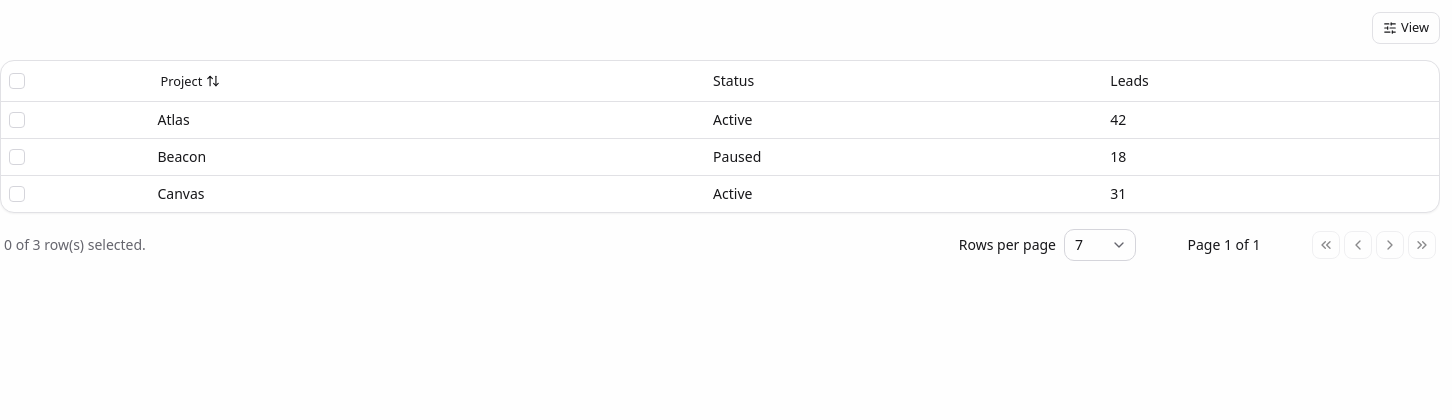
Test: DataTable › keeps a custom current page size available in the selector
Click the dropdown named "Rows per page". click: (1100, 244)
box: [1064,228,1136,260]
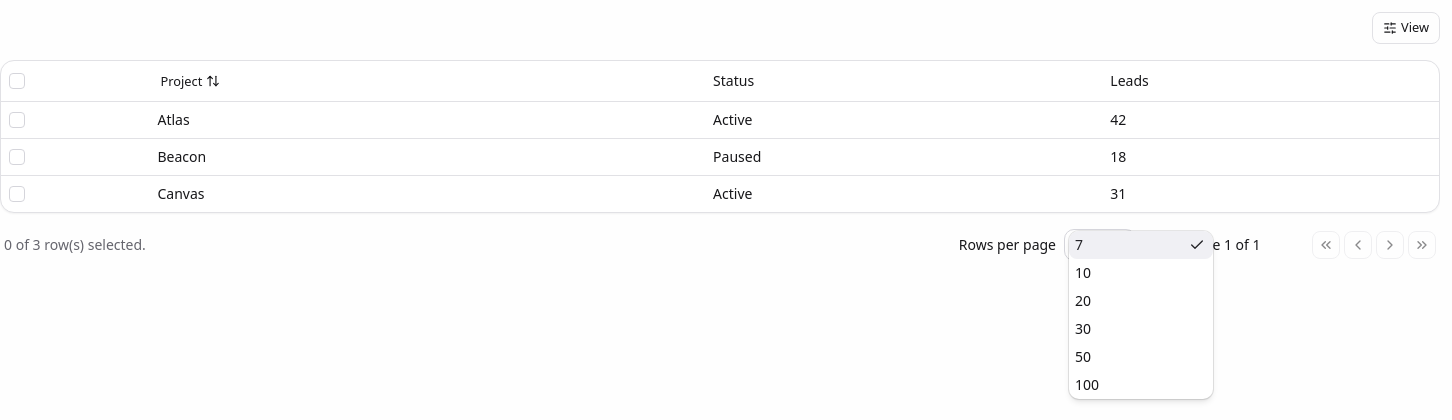
Result: the option "7" is shown at [1069,230,1213,258]
